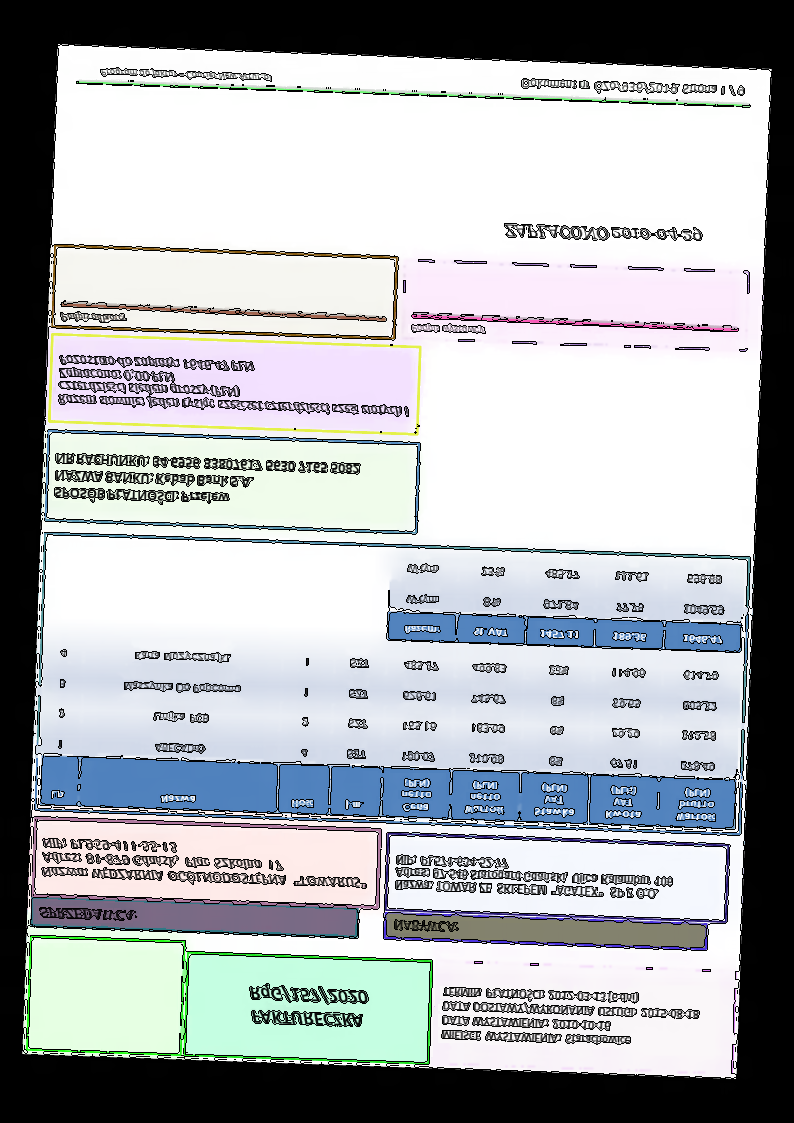Table: (38, 632, 741, 831), (385, 550, 745, 653)
TextBox: (55, 352, 413, 419), (51, 449, 363, 512), (38, 836, 369, 891), (439, 985, 702, 1050), (393, 854, 675, 901), (246, 980, 370, 1030), (502, 218, 704, 247), (520, 75, 746, 98), (97, 64, 274, 85), (36, 905, 139, 923), (391, 916, 461, 935), (409, 321, 487, 337), (58, 311, 132, 327)
